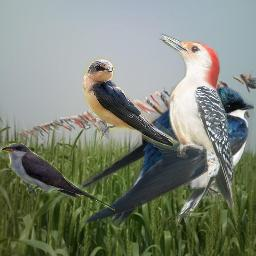Cuckoo: (0, 143, 115, 212)
Swallow: (59, 85, 254, 226), (82, 54, 183, 151)
Woodpecker: (156, 33, 234, 227)
